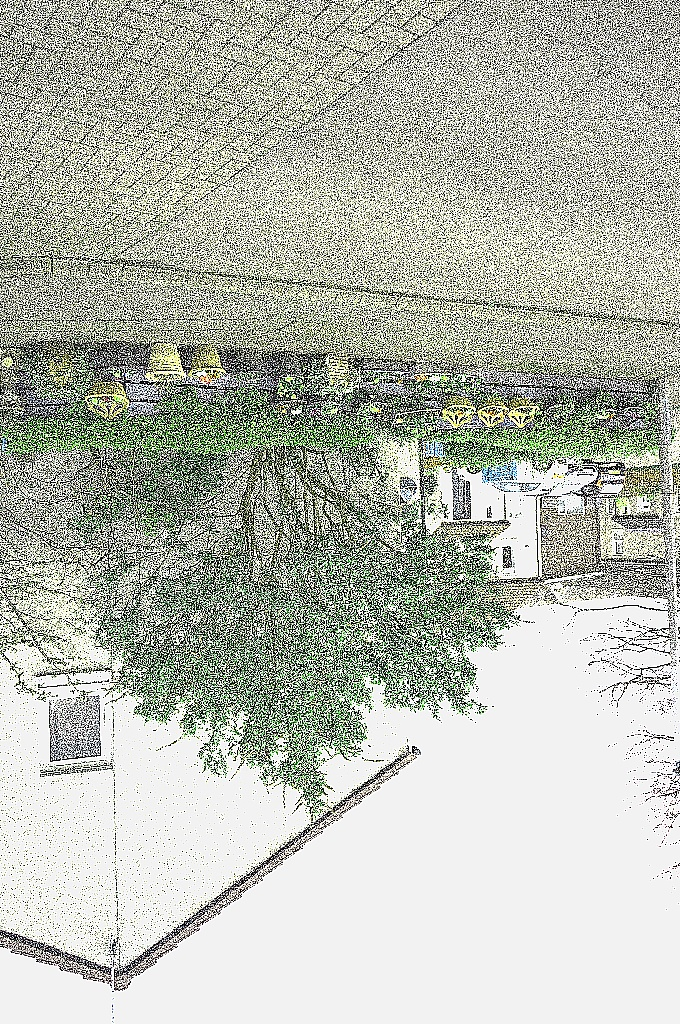Tree: (100, 407, 544, 818)
